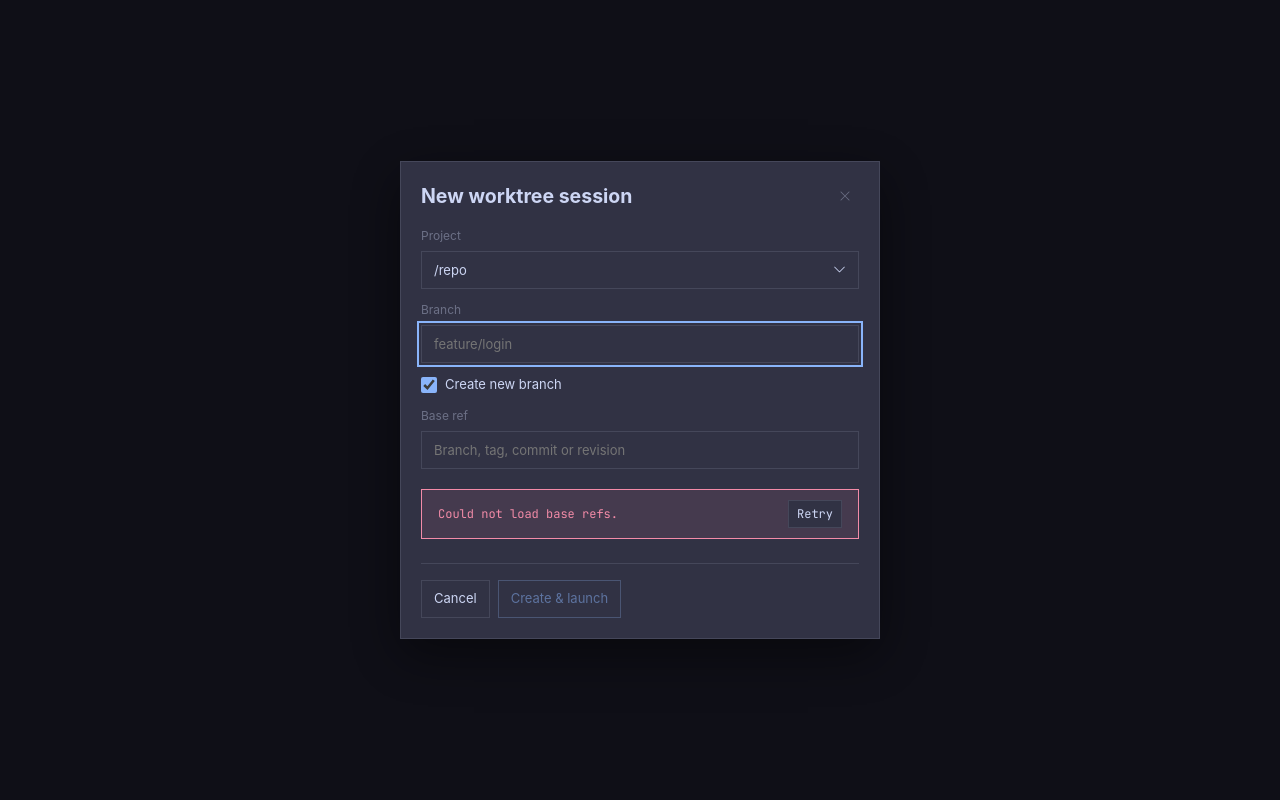
it: WorktreeFormModal machine ownership › lets the user retry loading the default branch without recreating the dialog
Check: the message shows "Could not load base refs", box [438,506,618,522]
Click the button "Retry": (815, 514) [788,500,842,528]
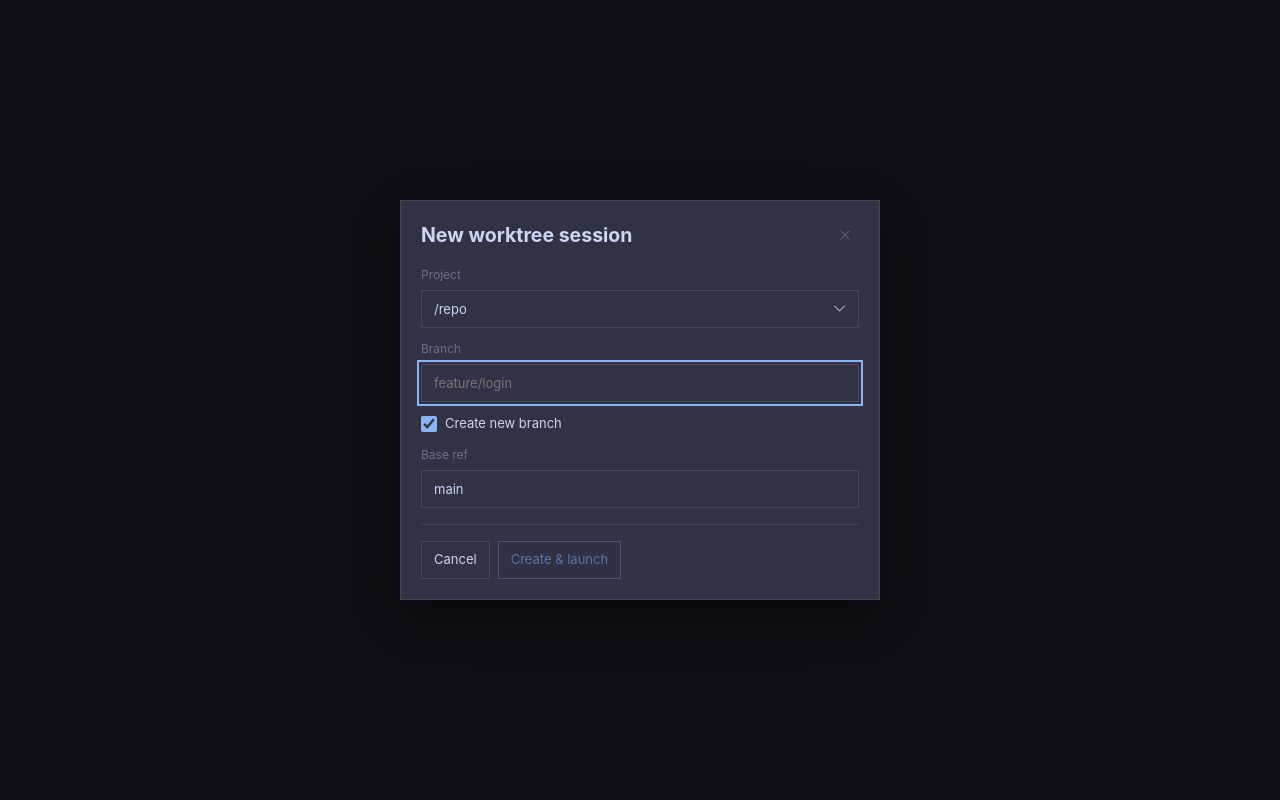
Check: the field labelled "Base ref" holds "main", box [421,470,859,508]
Check: the message "Could not load base refs. Retry" is gone
